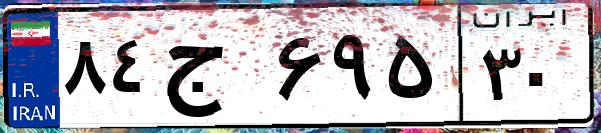0: (525, 38, 570, 115)
3: (475, 38, 525, 113)
4: (110, 28, 158, 98)
5: (385, 28, 445, 110)
6: (270, 28, 330, 110)
8: (57, 26, 110, 100)
9: (330, 28, 385, 110)
ج: (158, 20, 270, 120)
